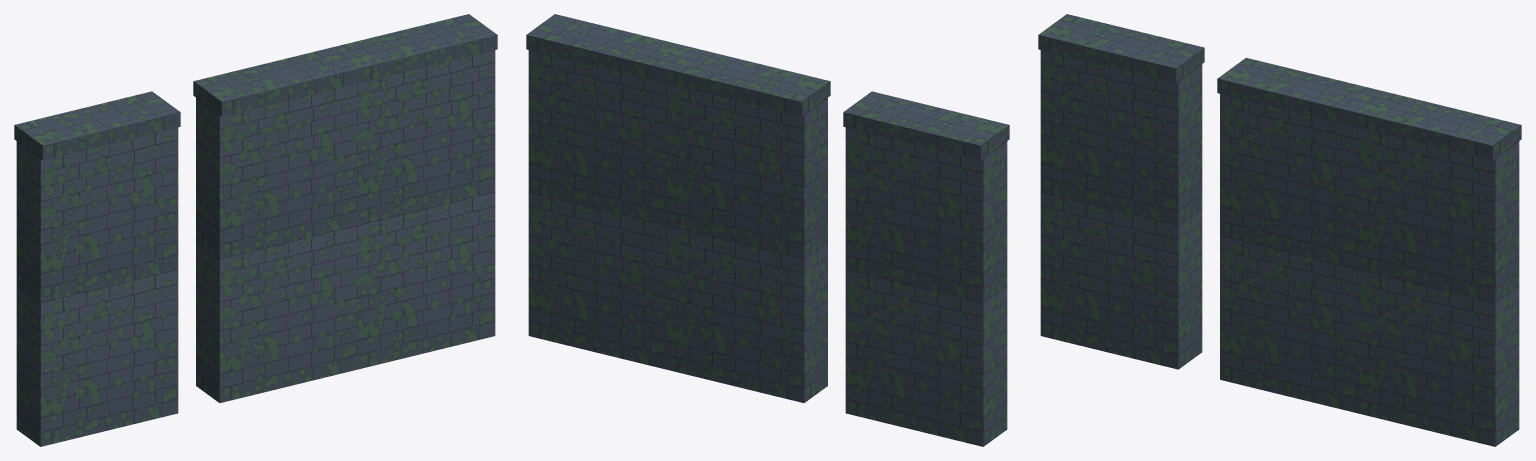
The model's file is tileset_showcase_all.obj.
The picture shows the model from 3 angles, left to right: view 1: azimuth 30°, elevation 25°; view 2: azimuth 150°, elevation 25°; view 3: azimuth 330°, elevation 25°; orthographic projection.
Visible parts, largest first — view 1: corner_outer_1m, wall_straight_1m; view 2: corner_outer_1m, wall_straight_1m; view 3: corner_outer_1m, wall_straight_1m.
Part boxes in pixels (x1=…): corner_outer_1m: x1=193, y1=14, x2=497, y2=402; wall_straight_1m: x1=14, y1=91, x2=180, y2=446; corner_outer_1m: x1=526, y1=14, x2=830, y2=402; wall_straight_1m: x1=843, y1=91, x2=1009, y2=446; corner_outer_1m: x1=1217, y1=57, x2=1521, y2=446; wall_straight_1m: x1=1038, y1=14, x2=1204, y2=369.
Size of the model in its own units: 3.3 by 2.1 by 0.36.
1 material, 1 textured.
